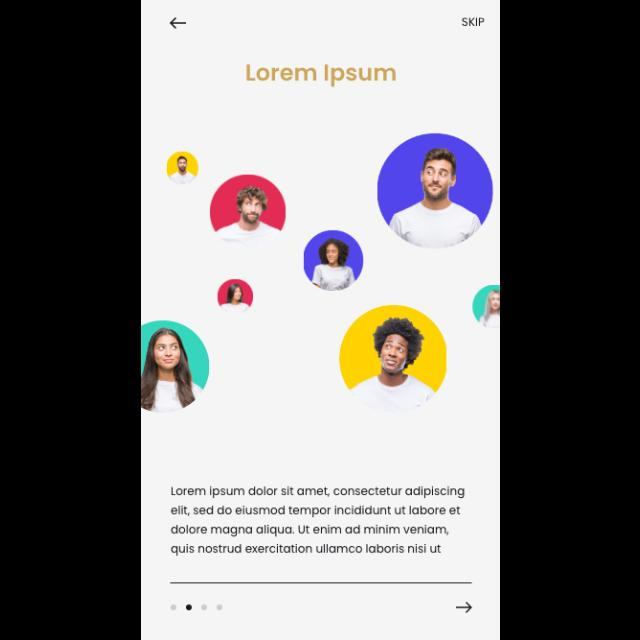icon: (456, 600, 472, 614), (168, 18, 186, 30)
image: (141, 134, 497, 412)
pageindicator: (170, 604, 223, 610)
text: (170, 486, 466, 556), (246, 64, 396, 88), (462, 18, 484, 28)
